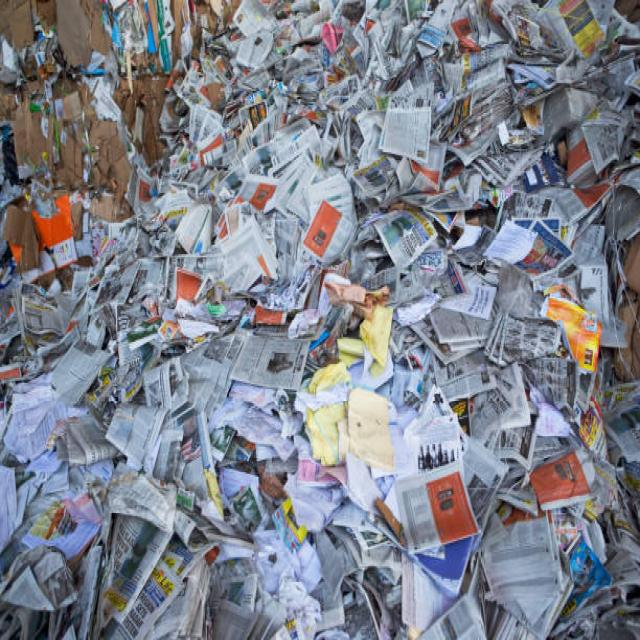electronic: (394, 458, 479, 558), (346, 386, 394, 475), (377, 104, 431, 163), (301, 198, 342, 262), (358, 303, 393, 372)
